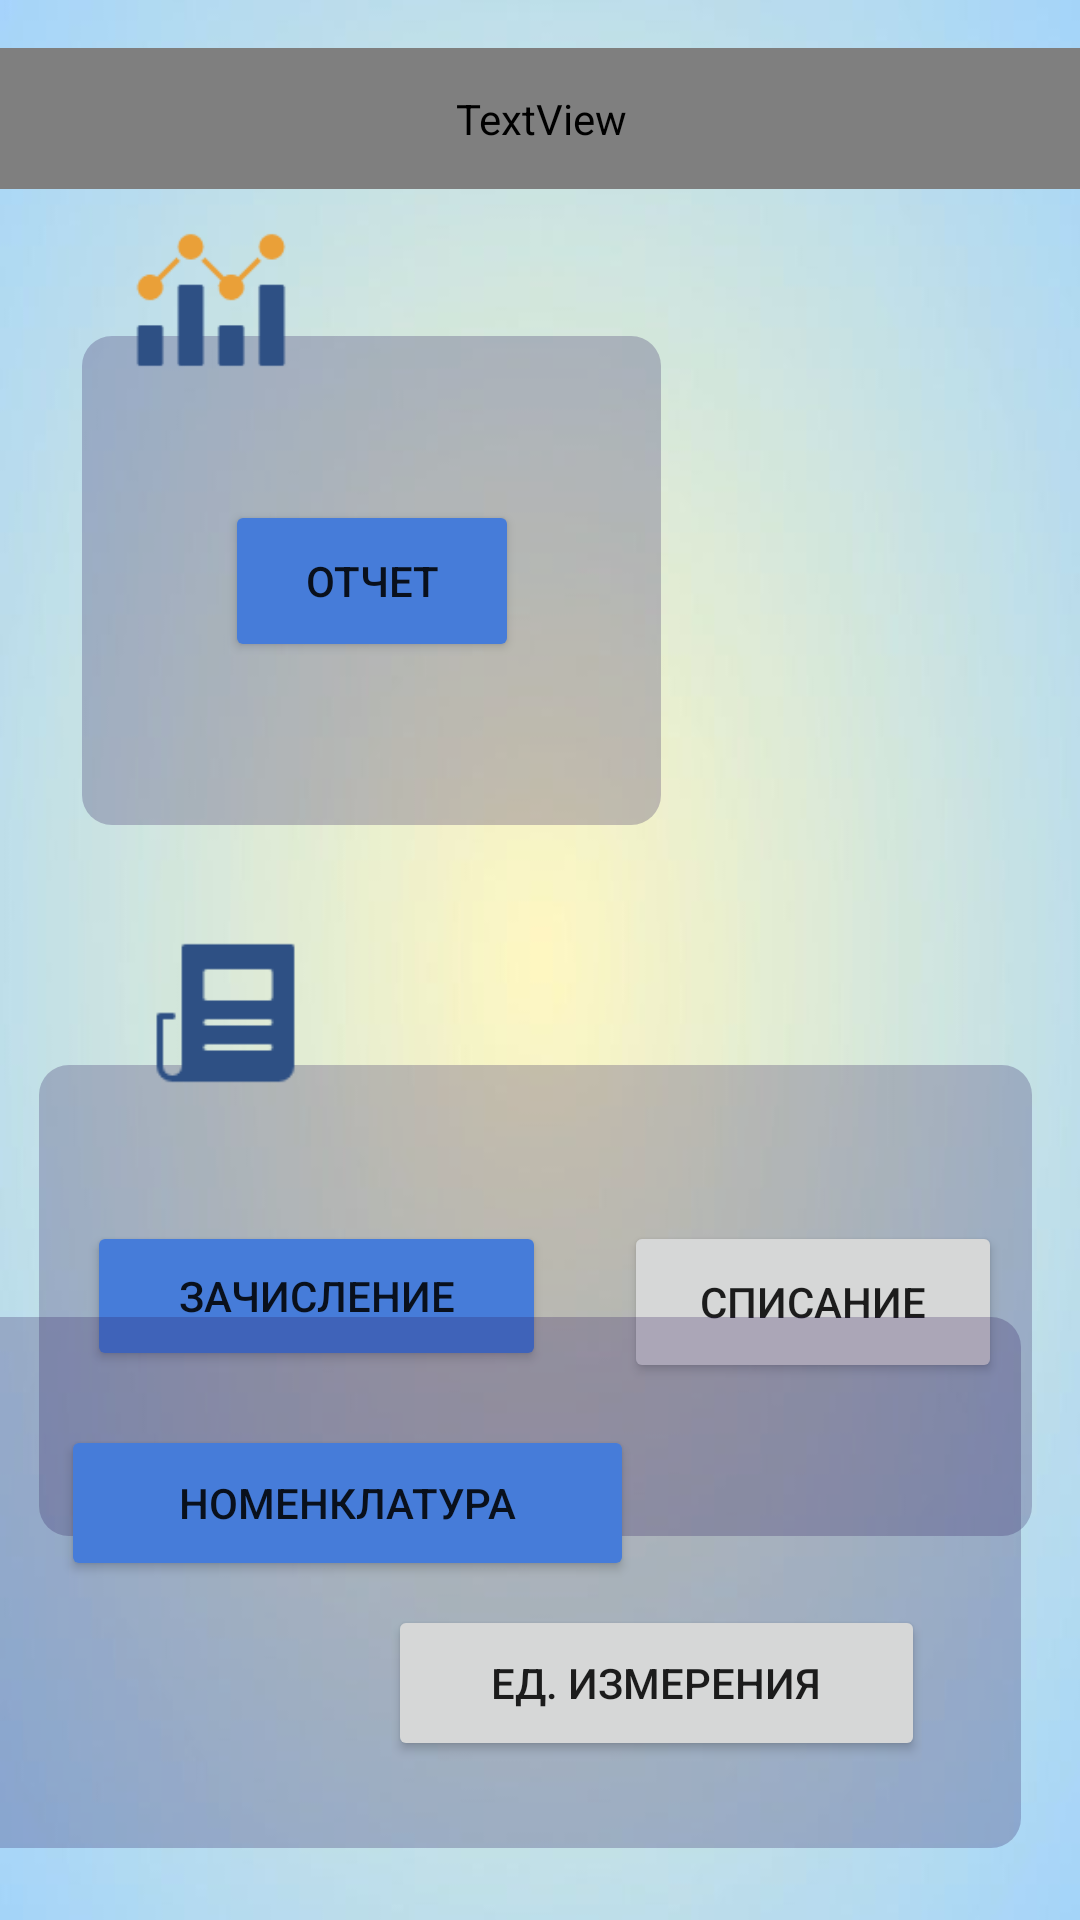

Screen size 1080*1920. Icon name, then its box in pixels as (x1, y1, x2, y2):
news: (146, 943, 305, 1088)
statistics: (130, 234, 292, 384)
